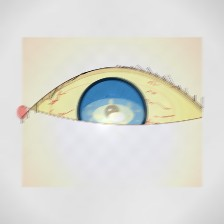corneal_ulcer: (80, 88, 147, 142)
